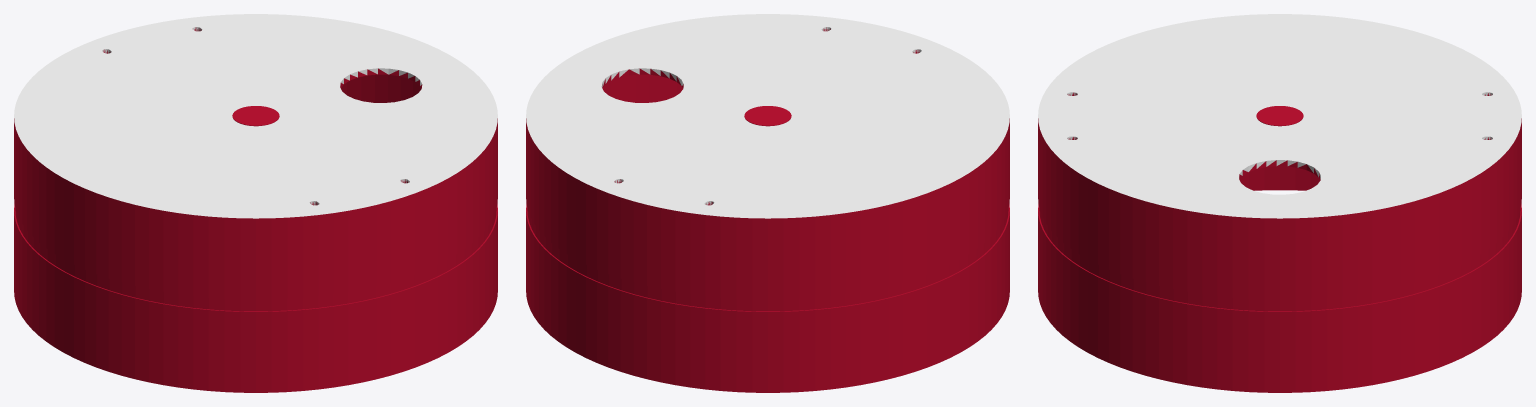
Rendered from BOTTOM_colour_1.dae.
3 renders of one model, left to right at view 1: azimuth 30°, elevation 25°; view 2: azimuth 150°, elevation 25°; view 3: azimuth 270°, elevation 25°, orthographic.
Visible parts, largest first — view 1: BOTTOM; view 2: BOTTOM; view 3: BOTTOM.
Part boxes in pixels (box(x1,y1,x2,y2)): BOTTOM: box(14, 14, 497, 392); BOTTOM: box(526, 14, 1009, 392); BOTTOM: box(1038, 14, 1521, 392).
Bounding box in the file's own units: 0.352 × 0.352 × 0.1404.
